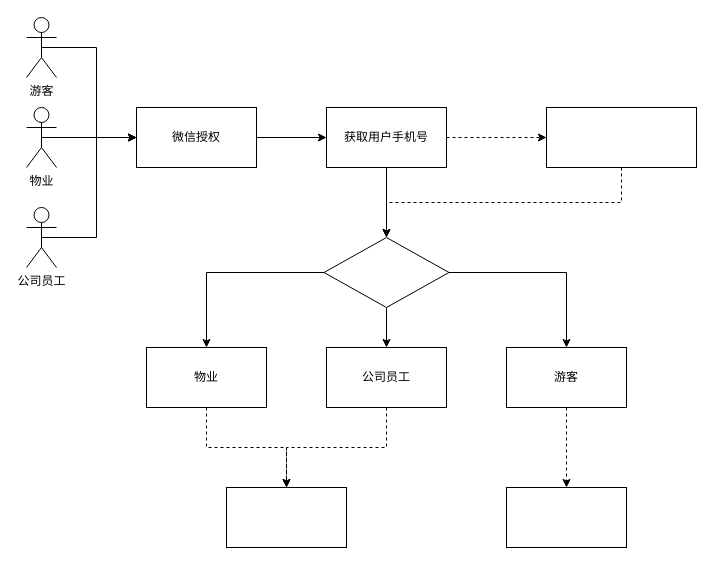
The diagram is 714 pixels wide and 565 high, and some of its shapes have lost their labels. The centre of each missing label's shape, as x and y in pixels:
"游客页面" belongs at (x=566, y=517).
"通过手机号获取到用户的信息， 例如：员工和物业的手机号需要提前录入" belongs at (x=621, y=137).
"通过类型判断 权限" belongs at (x=386, y=272).
"页面" belongs at (x=286, y=517).
